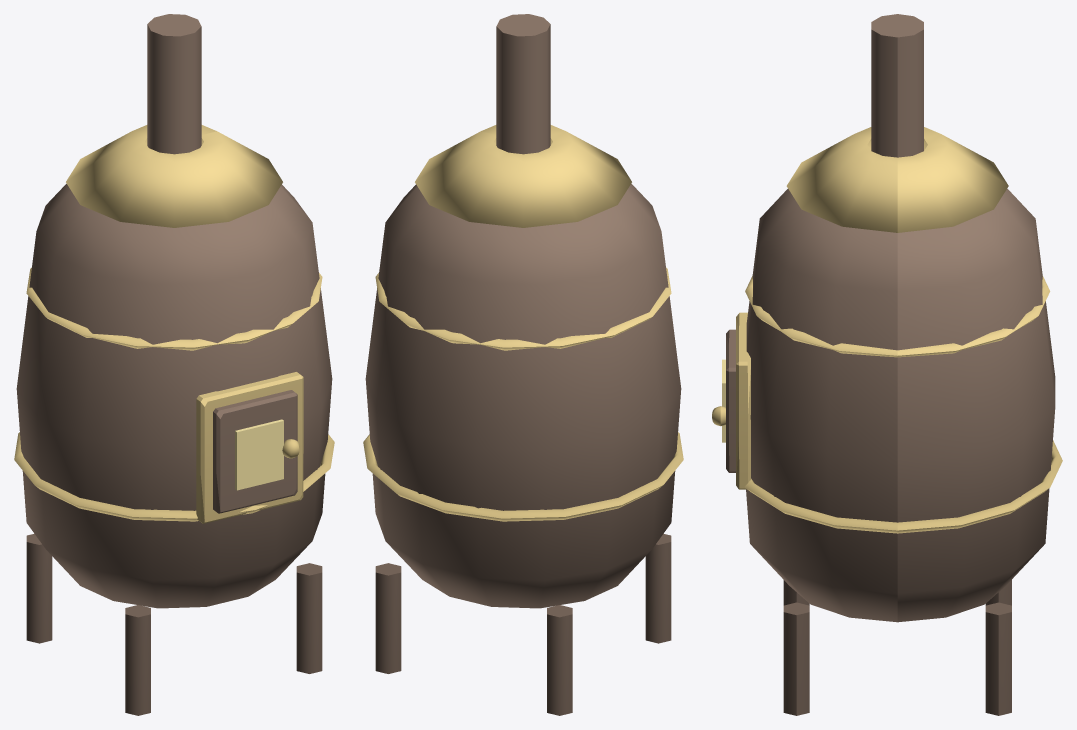
The model's file is kajuete_ofen.glb.
3 views of the same model, side by side, from view 1: azimuth 30°, elevation 25°; view 2: azimuth 150°, elevation 25°; view 3: azimuth 270°, elevation 25° (orthographic). The views are drawn at different scales.
Parts seen in each view (by area): view 1: G_kajuete_ofen; view 2: G_kajuete_ofen; view 3: G_kajuete_ofen.
Part boxes in pixels (bbox=[...]): G_kajuete_ofen: bbox=[14, 14, 334, 715]; G_kajuete_ofen: bbox=[363, 14, 683, 715]; G_kajuete_ofen: bbox=[712, 14, 1062, 715].
Bounding box in the file's own units: 0.654 × 1.4 × 0.6943.
